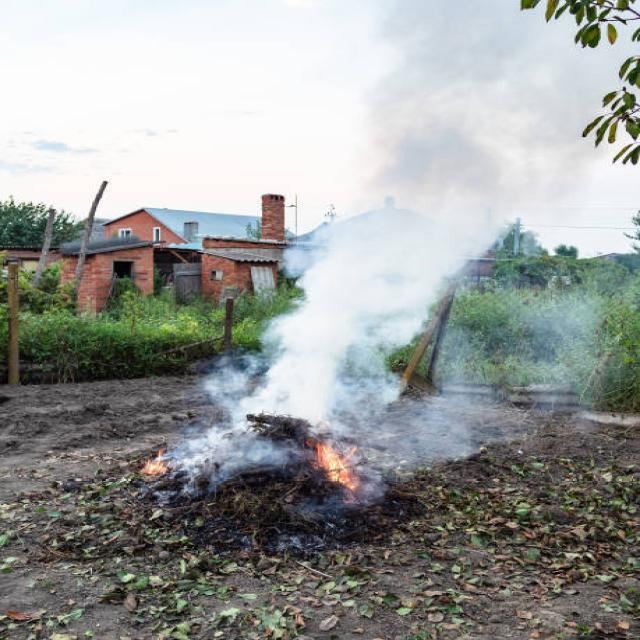Fire: (318, 436, 360, 496), (140, 449, 168, 476)
Smoke: (199, 0, 640, 429)
